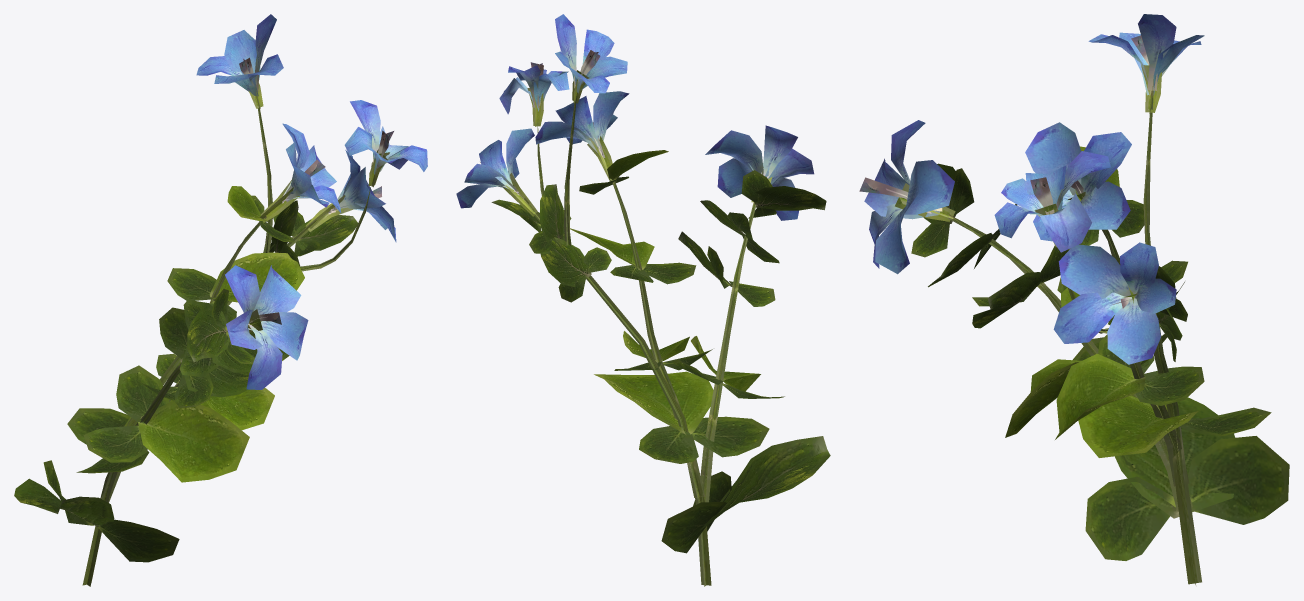
3 renders of one model, left to right at view 1: azimuth 30°, elevation 25°; view 2: azimuth 150°, elevation 25°; view 3: azimuth 270°, elevation 25°, orthographic. The views are drawn at different scales.
Parts seen in each view (by area): view 1: LV_Telaon_Object_Flower02_SM_HSH; view 2: LV_Telaon_Object_Flower02_SM_HSH; view 3: LV_Telaon_Object_Flower02_SM_HSH.
Boxes of the visible parts, bbox=[...] form: LV_Telaon_Object_Flower02_SM_HSH: bbox=[14, 14, 427, 586]; LV_Telaon_Object_Flower02_SM_HSH: bbox=[456, 14, 830, 586]; LV_Telaon_Object_Flower02_SM_HSH: bbox=[859, 14, 1289, 584].
Size of the model in its own units: 0.4509 by 0.636 by 0.3683.
1 material, 1 textured.
